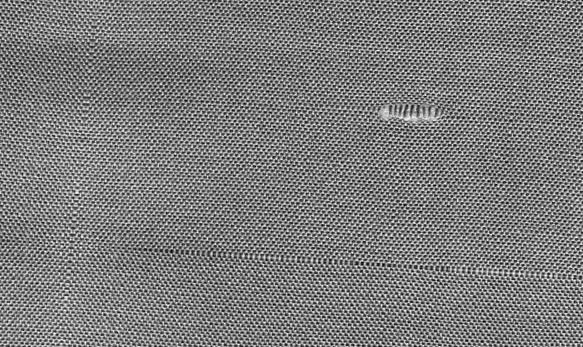slub: (367, 100, 452, 128)
